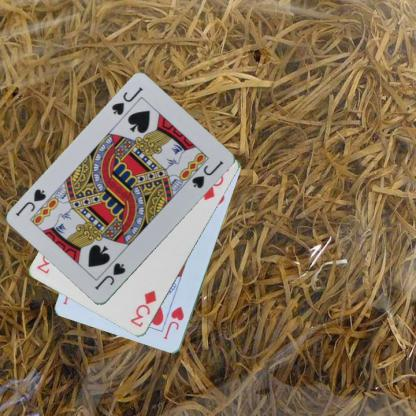3d: (127, 288, 158, 328)
Jh: (160, 304, 186, 341)
Js: (108, 84, 144, 117), (92, 260, 127, 292)
